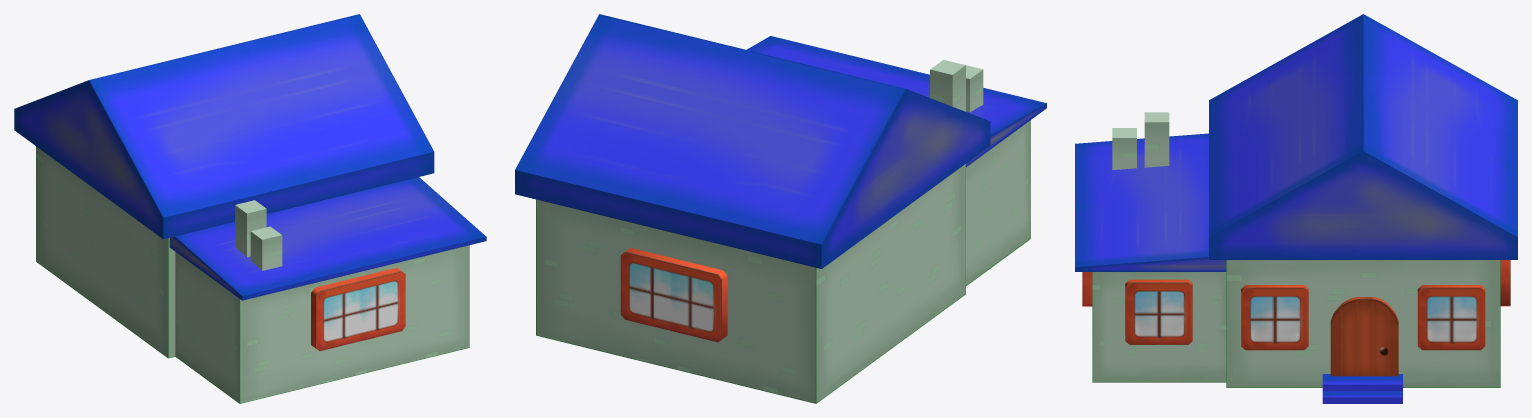
Rendered from House_15.fbx.
The picture shows the model from 3 angles, left to right: view 1: azimuth 30°, elevation 25°; view 2: azimuth 150°, elevation 25°; view 3: azimuth 270°, elevation 25°; orthographic projection. The views are drawn at different scales.
Visible parts, largest first — view 1: House_15; view 2: House_15; view 3: House_15.
Boxes of the visible parts, x1,y1,x2,y2 form: House_15: (14, 14, 486, 403); House_15: (515, 14, 1046, 403); House_15: (1075, 14, 1517, 403).
Bounding box in the file's own units: 7.58 × 5.76 × 9.55.
